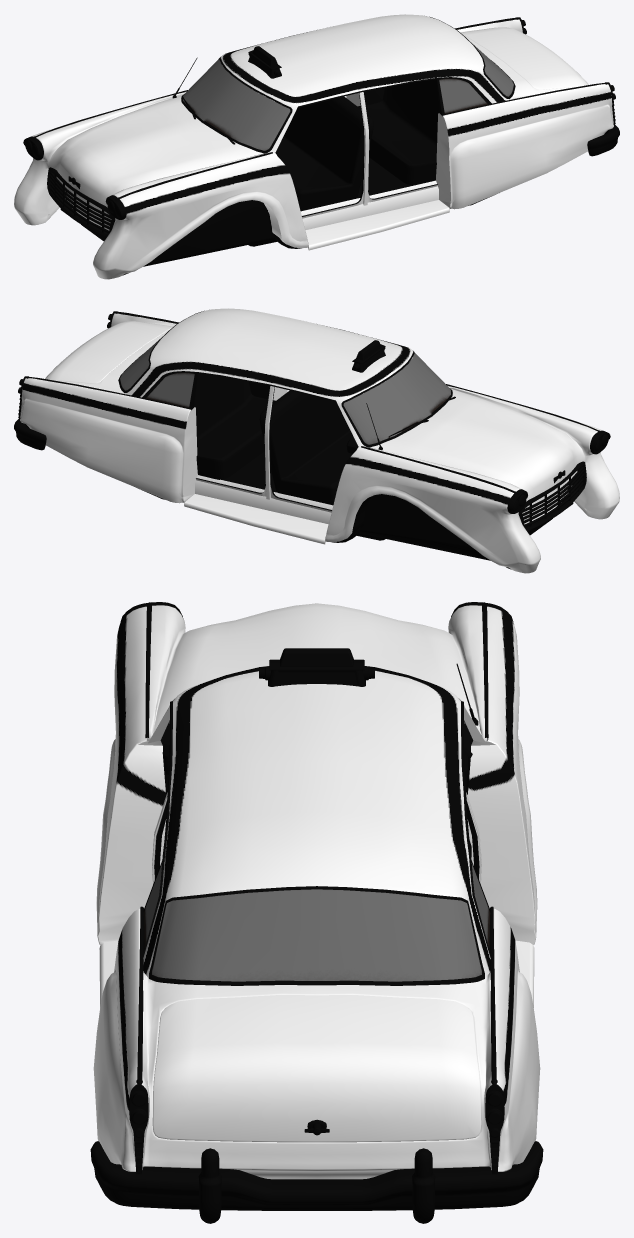
The model's file is SM_CR03_Body_01.fbx.
The picture shows the model from 3 angles, top to bottom: view 1: azimuth 30°, elevation 25°; view 2: azimuth 150°, elevation 25°; view 3: azimuth 270°, elevation 25°; orthographic projection. The views are drawn at different scales.
Visible parts, largest first — view 1: SM_CR03_Body_01_LOD0; view 2: SM_CR03_Body_01_LOD0; view 3: SM_CR03_Body_01_LOD0.
Part boxes in pixels (x1,y1,x2,y2): SM_CR03_Body_01_LOD0: [14, 14, 619, 279]; SM_CR03_Body_01_LOD0: [14, 308, 619, 573]; SM_CR03_Body_01_LOD0: [90, 602, 543, 1223].
Size of the model in its own units: 534 by 200 by 162.
4 materials, 4 textured.
